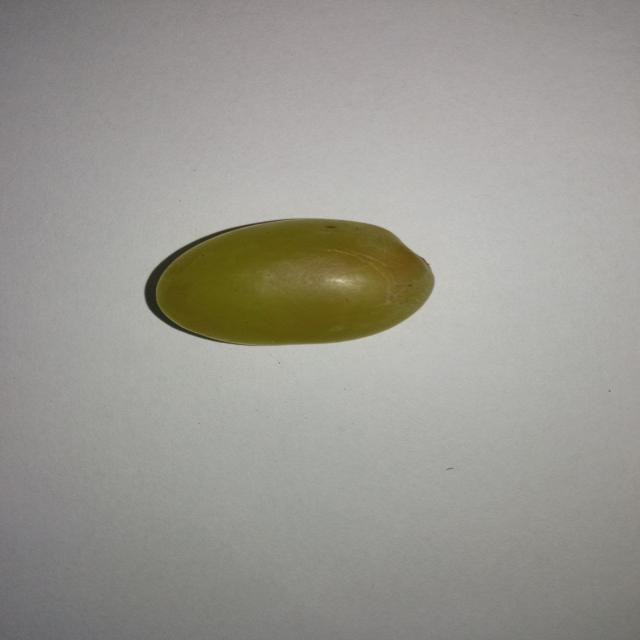fresh_grape: (153, 216, 435, 344)
